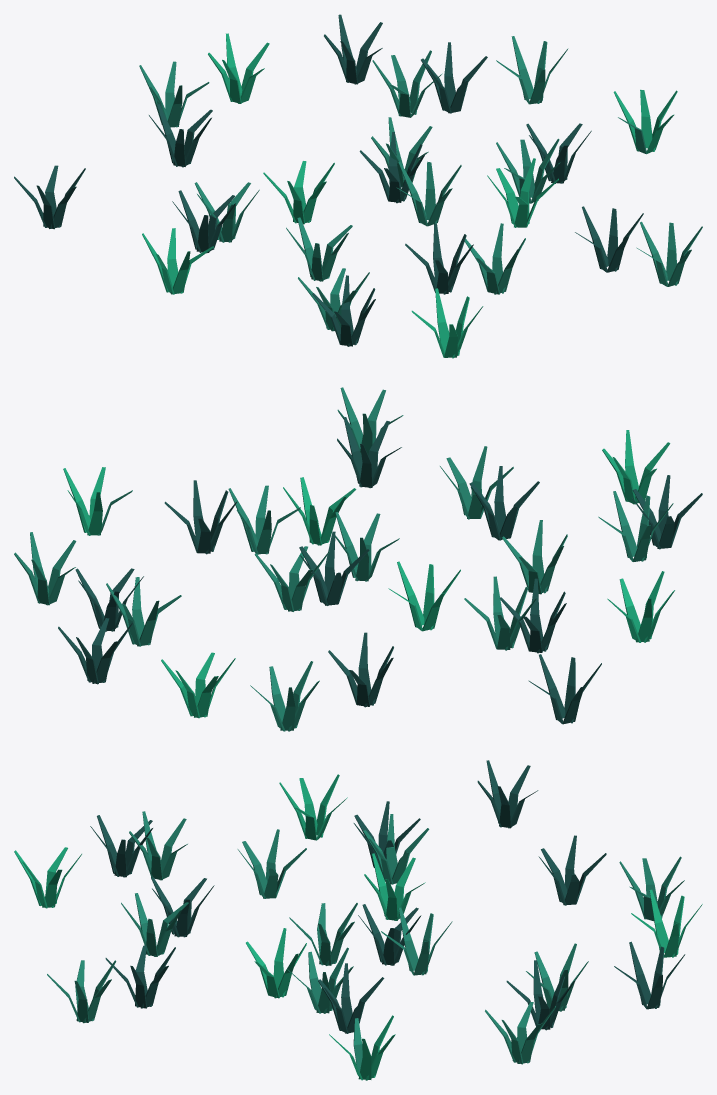
Rendered from GrassPatches_002.fbx.
3 views of the same model, one above another, from view 1: azimuth 30°, elevation 25°; view 2: azimuth 150°, elevation 25°; view 3: azimuth 270°, elevation 25° (orthographic). The views are drawn at different scales.
Visible parts, largest first — view 1: GrassPatches; view 2: GrassPatches; view 3: GrassPatches.
Boxes of the visible parts, <box> form: GrassPatches: <box>14,14,702,358</box>; GrassPatches: <box>14,387,702,731</box>; GrassPatches: <box>14,760,702,1080</box>.
Size of the model in its own units: 486 by 42.35 by 505.
